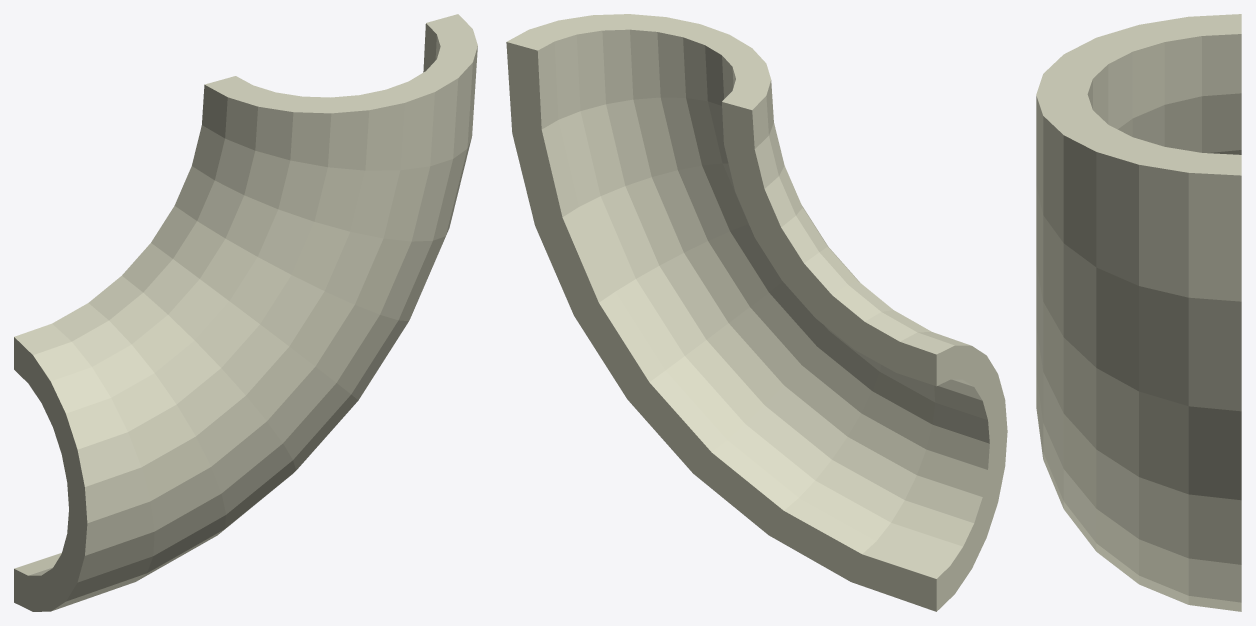
The model's file is section_337.obj.
3 renders of one model, left to right at view 1: azimuth 30°, elevation 25°; view 2: azimuth 150°, elevation 25°; view 3: azimuth 270°, elevation 25°, orthographic. The views are drawn at different scales.
Bounding box in the file's own units: 13.99 × 14.46 × 4.
